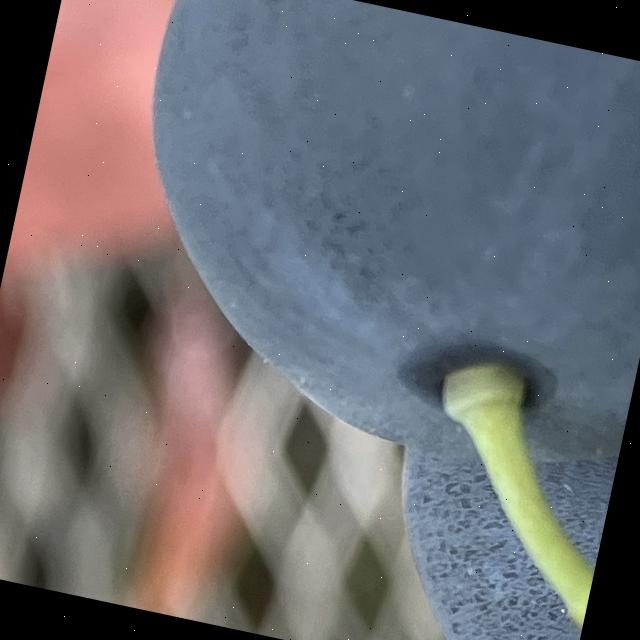Blueberries: (56, 0, 640, 517)
